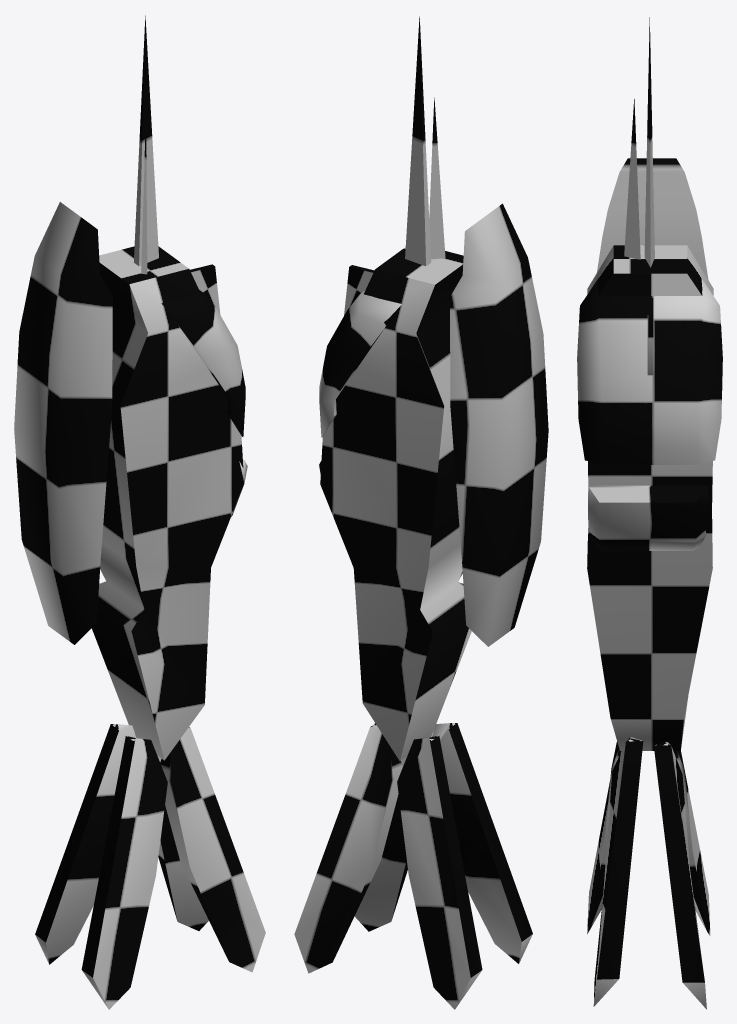
Rendered from beacon-animated.obj.
3 views of the same model, side by side, from view 1: azimuth 30°, elevation 25°; view 2: azimuth 150°, elevation 25°; view 3: azimuth 270°, elevation 25° (orthographic).
Visible parts, largest first — view 1: beacon, leg2, leg0, leg1, leg3; view 2: beacon, leg1, leg3, leg2, leg0; view 3: beacon, leg0, leg3, leg1, leg2.
Boxes of the visible parts, x1,y1,x2,y2 form: beacon: [14, 15, 247, 760]; leg2: [81, 736, 167, 1009]; leg0: [160, 727, 265, 972]; leg1: [35, 724, 136, 964]; leg3: [157, 755, 208, 930]; beacon: [319, 16, 548, 760]; leg1: [397, 735, 482, 1009]; leg3: [294, 723, 402, 973]; leg2: [432, 723, 532, 963]; leg0: [354, 756, 407, 931]; beacon: [577, 17, 722, 750]; leg0: [593, 737, 643, 1006]; leg3: [653, 740, 706, 1009]; leg1: [673, 751, 710, 935]; leg2: [587, 741, 621, 934].
Bounding box in the file's own units: 68.53 × 305 × 42.14.
Materials: 3 (3 with a texture image).
